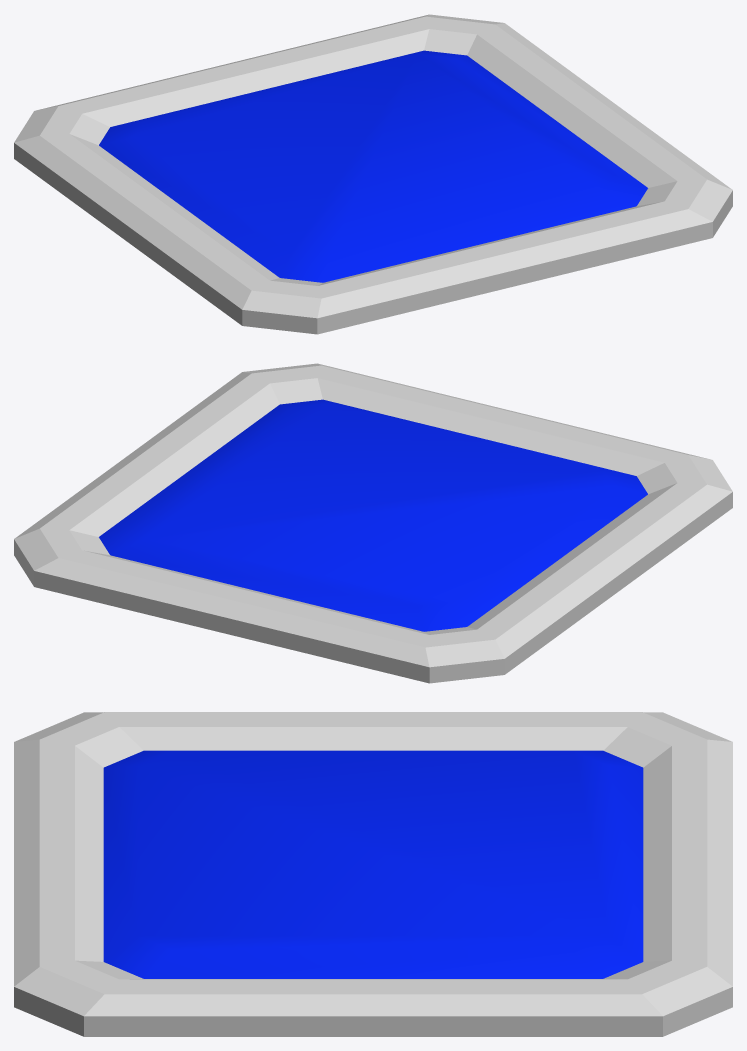
File: Charging_station_01.FBX
3 views of the same model, one above another, from view 1: azimuth 30°, elevation 25°; view 2: azimuth 150°, elevation 25°; view 3: azimuth 270°, elevation 25° (orthographic). The views are drawn at different scales.
Visible parts, largest first — view 1: Object038, Box056; view 2: Object038, Box056; view 3: Object038, Box056.
Part boxes in pixels (x1,y1,x2,y2): Object038: [99, 50, 647, 282]; Box056: [14, 14, 732, 334]; Object038: [99, 399, 647, 631]; Box056: [14, 363, 732, 683]; Object038: [103, 750, 643, 978]; Box056: [14, 712, 732, 1036].
Size of the model in its own units: 47.5 by 2.47 by 47.5.
